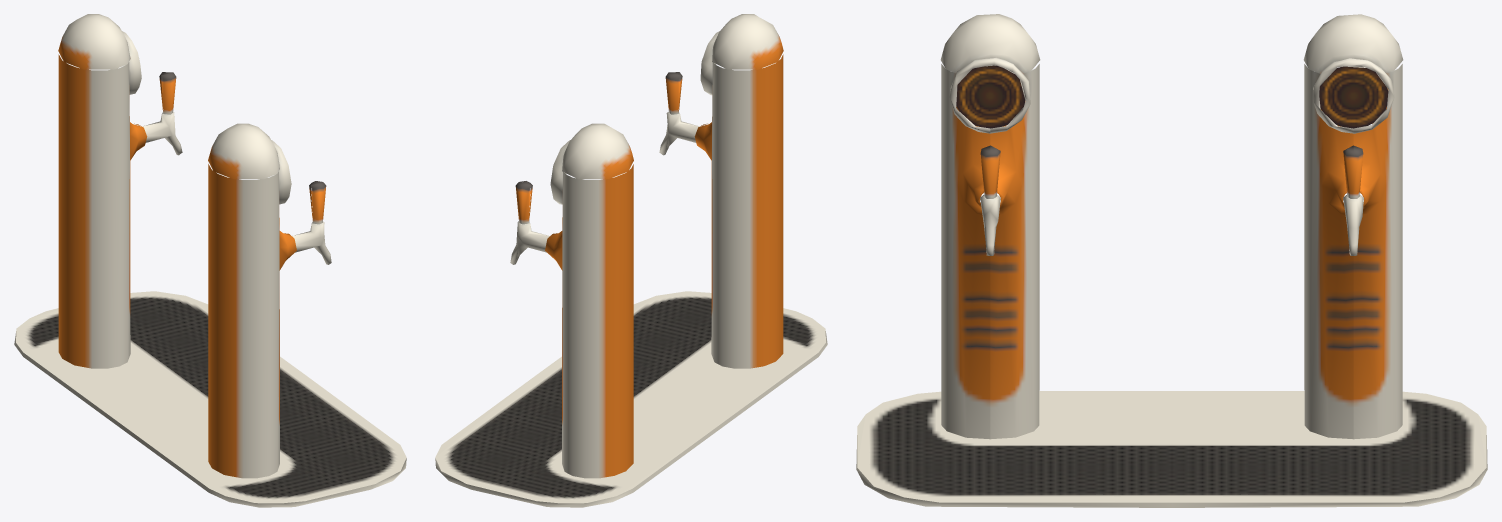
File: bar_dispenser_2_c.glb
3 views of the same model, side by side, from view 1: azimuth 30°, elevation 25°; view 2: azimuth 150°, elevation 25°; view 3: azimuth 270°, elevation 25° (orthographic). The views are drawn at different scales.
Parts seen in each view (by area): view 1: bar_dispenser_2; view 2: bar_dispenser_2; view 3: bar_dispenser_2.
Part boxes in pixels (left/top/right/bottom): bar_dispenser_2: left=14, top=14, right=406, bottom=507; bar_dispenser_2: left=435, top=14, right=827, bottom=507; bar_dispenser_2: left=856, top=14, right=1487, bottom=507.
Bounding box in the file's own units: 0.3055 × 0.5233 × 0.7275.
1 material, 1 textured.
